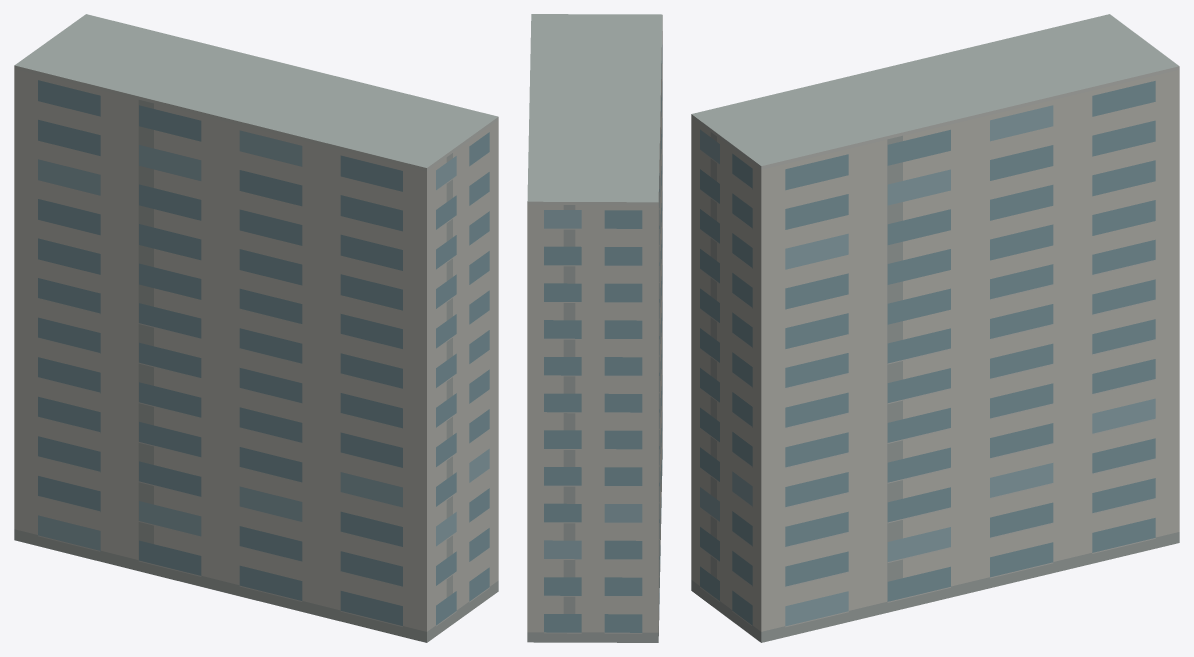
Rendered from residential-2a472cc6-9db1-4bdd-acf6-99d211a5940c.glb.
3 renders of one model, left to right at view 1: azimuth 30°, elevation 25°; view 2: azimuth 150°, elevation 25°; view 3: azimuth 270°, elevation 25°, orthographic. The views are drawn at different scales.
Visible parts, largest first — view 1: residential-2a472cc6-9db1-4bdd-acf6-99d211a5940c.tmp; view 2: residential-2a472cc6-9db1-4bdd-acf6-99d211a5940c.tmp; view 3: residential-2a472cc6-9db1-4bdd-acf6-99d211a5940c.tmp.
Part boxes in pixels (bbox=[...]): residential-2a472cc6-9db1-4bdd-acf6-99d211a5940c.tmp: bbox=[14, 14, 498, 642]; residential-2a472cc6-9db1-4bdd-acf6-99d211a5940c.tmp: bbox=[527, 14, 662, 642]; residential-2a472cc6-9db1-4bdd-acf6-99d211a5940c.tmp: bbox=[691, 14, 1179, 642].
Bounding box in the file's own units: 23.98 × 35 × 32.49.
